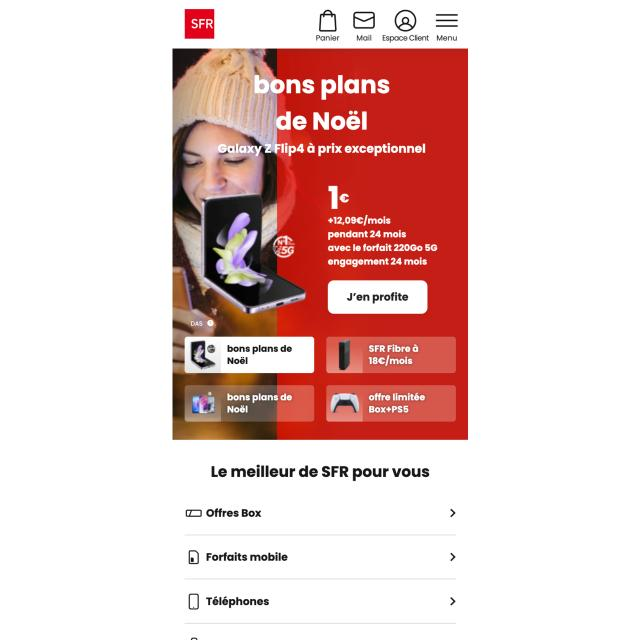logo: (183, 9, 216, 39)
navigation: (184, 501, 458, 626), (313, 6, 461, 44)
